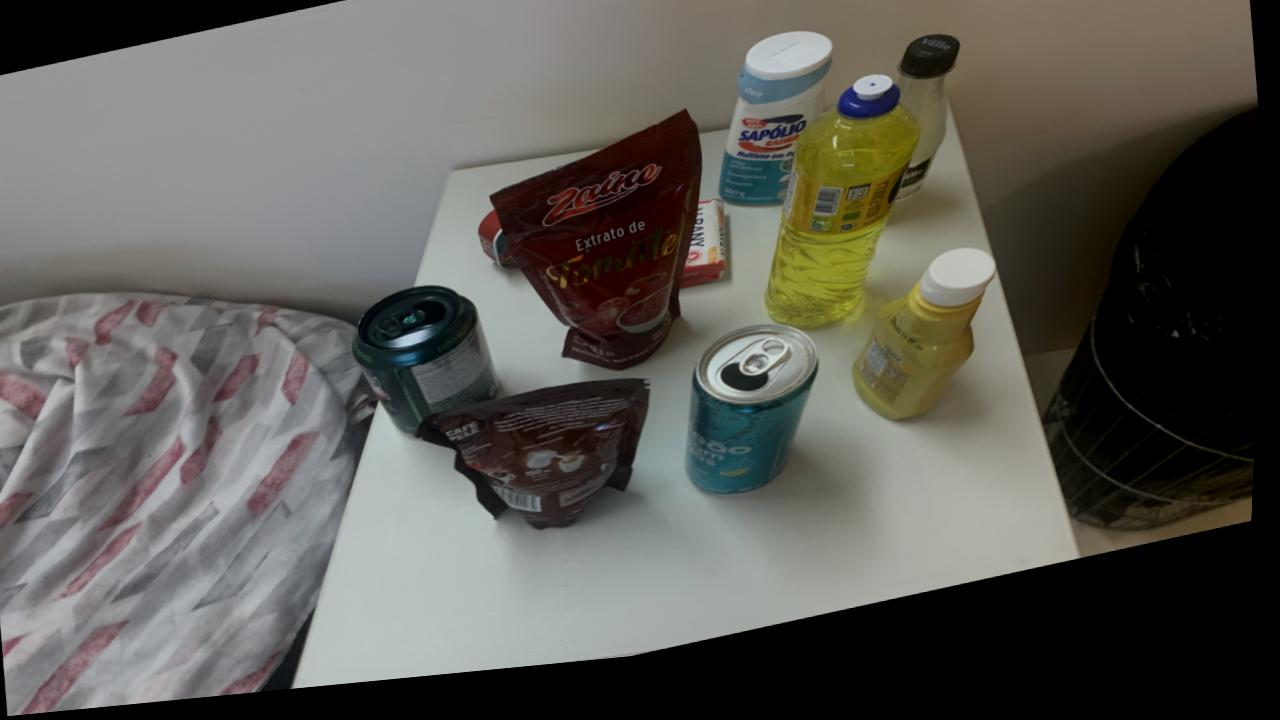Cleaner-Cleanup_Items: (721, 47, 834, 221)
Coffee-Pantry_Items: (421, 391, 654, 541)
Detergent-Cleanup_Items: (769, 92, 923, 344)
Guarana_Can-Drinks: (357, 294, 503, 442)
Mustard-Pantry_Items: (857, 268, 999, 439)
Soap-Cleanup_Items: (684, 214, 730, 302)
Soda-Drinks: (898, 53, 961, 220)
Tea-Drinks: (690, 340, 822, 510)
Tomato_Sauce-Pantry_Items: (494, 126, 705, 383)
Tuna_Can-Pantry_Items: (481, 222, 521, 281)
